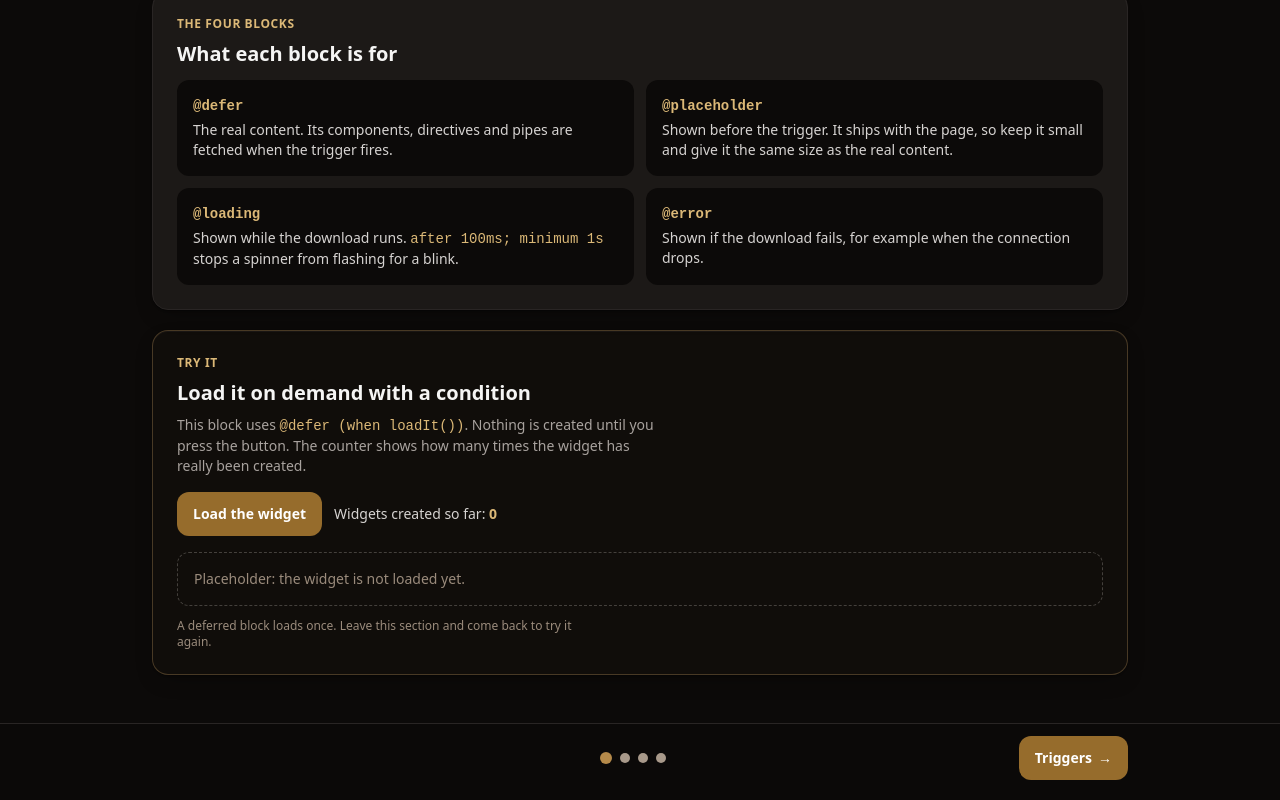
Test case: DeferComponent › loads the widget once the button flips the condition
The width and height of the screenshot is (1280, 800).
(page scrolled)
Click the button with test id "defer-load": (250, 514) [177,492,322,536]
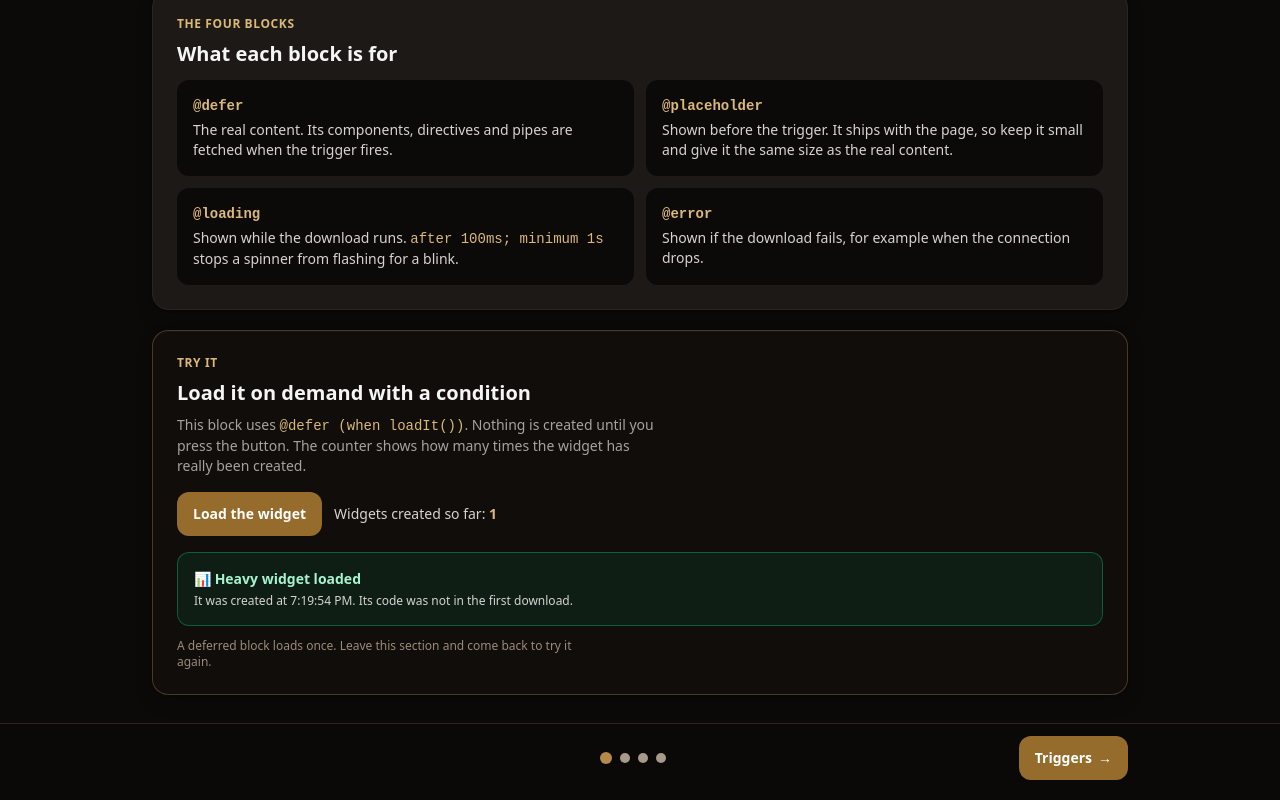
Expected: the element with test id "defer-widget" is shown, [177,552,1103,626]
Expected: the text with test id "defer-placeholder" is gone
